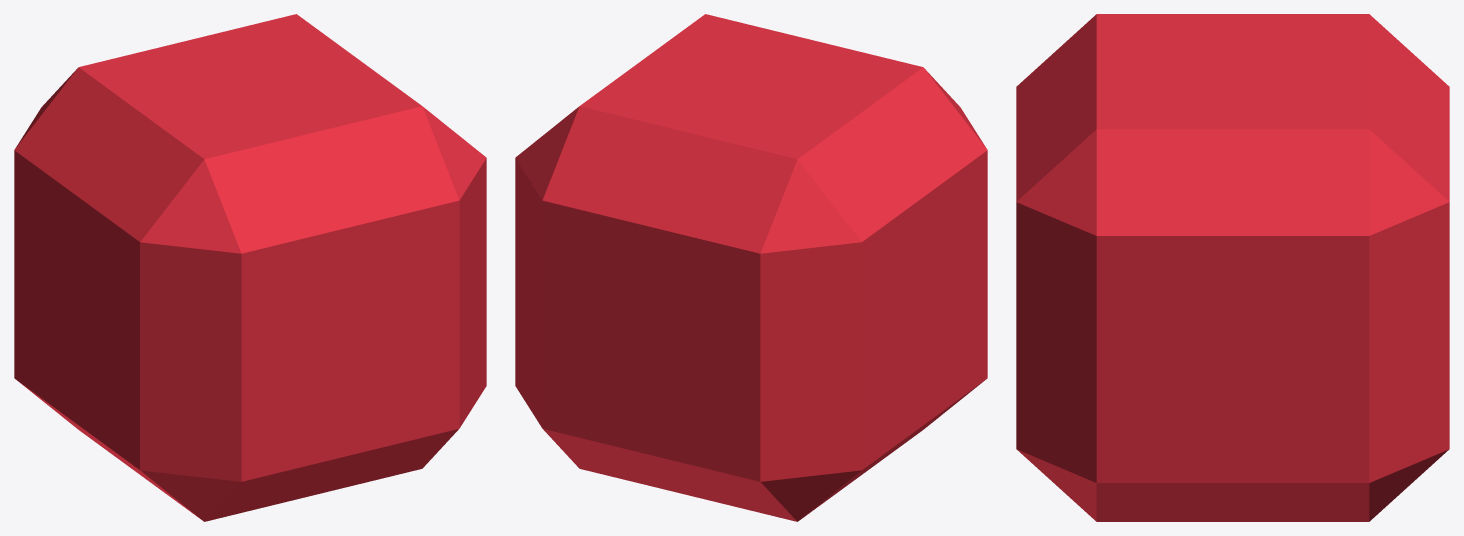
File: SM_ZKOUSKA.fbx
3 views of the same model, side by side, from view 1: azimuth 30°, elevation 25°; view 2: azimuth 150°, elevation 25°; view 3: azimuth 270°, elevation 25° (orthographic). The views are drawn at different scales.
Visible parts, largest first — view 1: ZKOUSKA.001; view 2: ZKOUSKA.001; view 3: ZKOUSKA.001.
Boxes of the visible parts, x1,y1,x2,y2 form: ZKOUSKA.001: (14,14,486,521); ZKOUSKA.001: (515,14,987,521); ZKOUSKA.001: (1016,14,1449,521).
Bounding box in the file's own units: 200 × 200 × 200.
